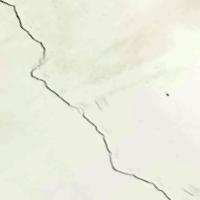crack: (1, 3, 172, 199)
